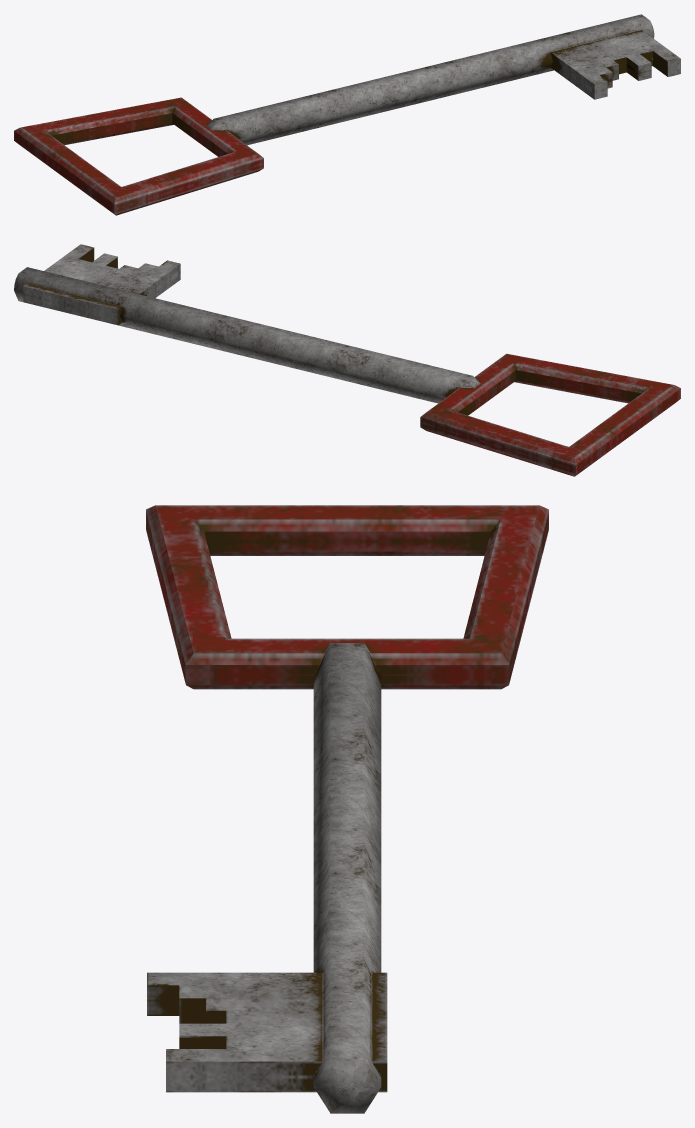
The model's file is Kunci-1.fbx.
3 renders of one model, top to bottom at view 1: azimuth 30°, elevation 25°; view 2: azimuth 150°, elevation 25°; view 3: azimuth 270°, elevation 25°, orthographic. The views are drawn at different scales.
Visible parts, largest first — view 1: Cylinder, Plane, Plane.001; view 2: Cylinder, Plane, Plane.001; view 3: Plane, Cylinder, Plane.001.
Boxes of the visible parts, bbox=[...] form: Cylinder: bbox=[206, 14, 654, 145]; Plane: bbox=[14, 97, 263, 215]; Plane.001: bbox=[550, 30, 680, 99]; Cylinder: bbox=[14, 267, 480, 403]; Plane: bbox=[420, 353, 680, 476]; Plane.001: bbox=[23, 244, 180, 325]; Plane: bbox=[146, 505, 548, 689]; Cylinder: bbox=[313, 643, 381, 1113]; Plane.001: bbox=[147, 972, 387, 1092].
Size of the model in its own units: 12.02 by 0.5196 by 3.58.
Materials: 1 (1 with a texture image).
